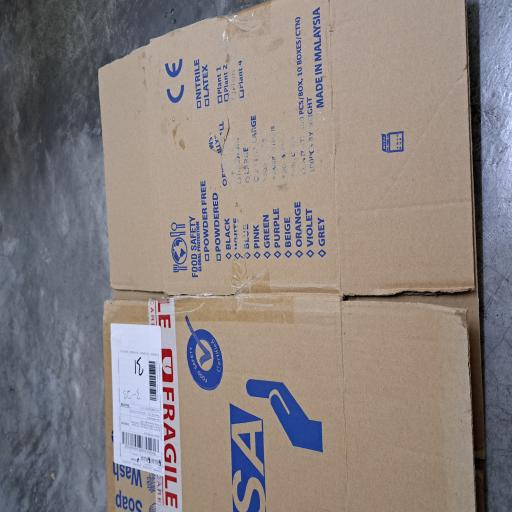cardboard: (0, 130, 384, 512)
